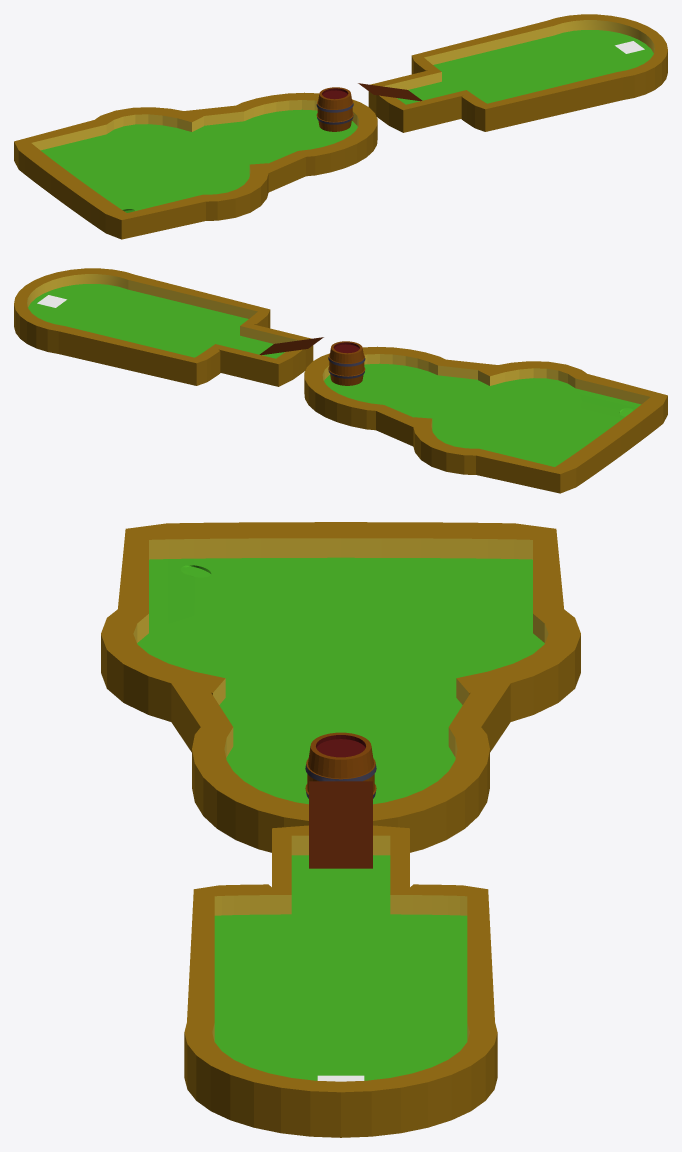
The model's file is playground3finalfinal.glb.
3 views of the same model, one above another, from view 1: azimuth 30°, elevation 25°; view 2: azimuth 150°, elevation 25°; view 3: azimuth 270°, elevation 25° (orthographic). The views are drawn at different scales.
Parts seen in each view (by area): view 1: Cylinder, Plane; view 2: Cylinder, Plane; view 3: Cylinder, Plane.
Boxes of the visible parts, x1,y1,x2,y2 form: Cylinder: (14,87,377,239); Plane: (358,14,667,132); Cylinder: (304,341,667,493); Plane: (14,268,323,386); Cylinder: (101,522,580,852); Plane: (184,781,497,1137).
Bounding box in the file's own units: 42.78 × 2.83 × 14.94.
